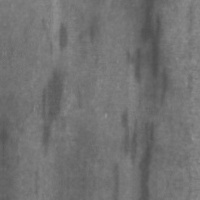inclusion: (117, 0, 165, 184), (35, 61, 68, 165), (53, 17, 74, 58)
